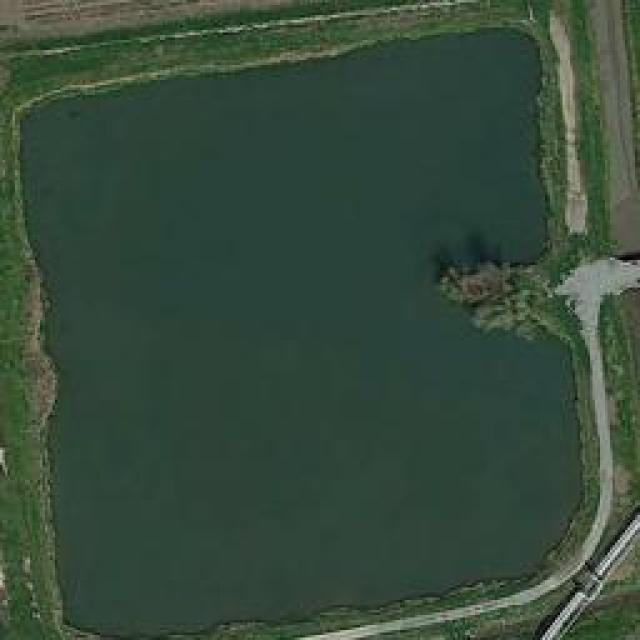Lake: (0, 11, 592, 638)
